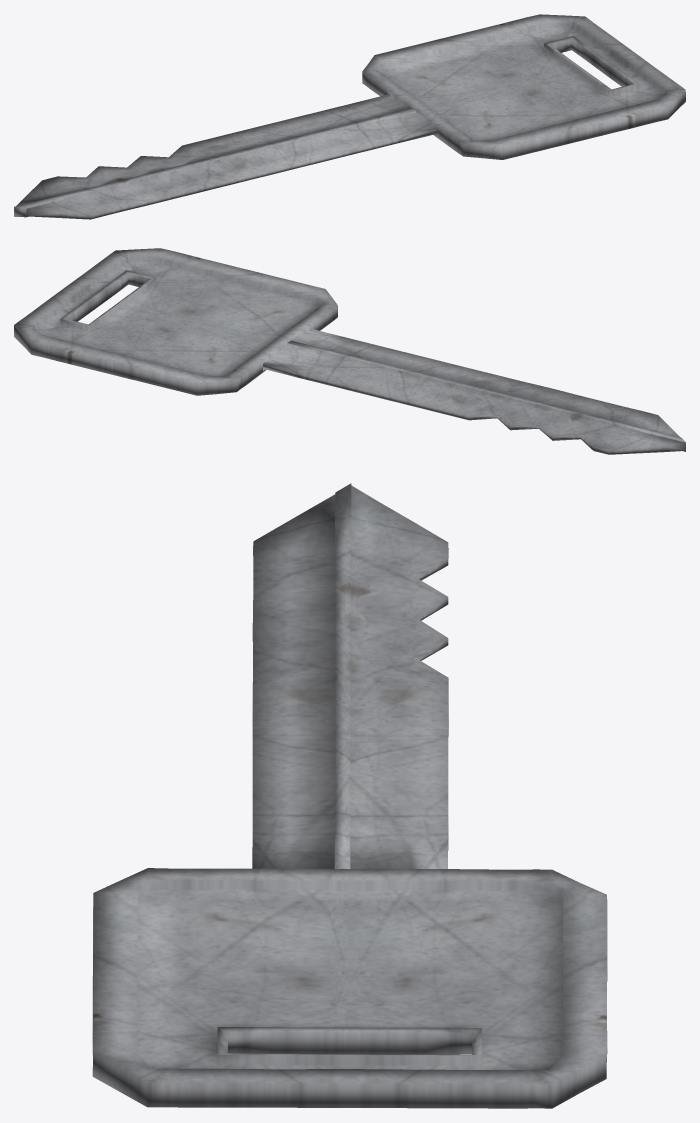
File: door_key.glb
3 views of the same model, one above another, from view 1: azimuth 30°, elevation 25°; view 2: azimuth 150°, elevation 25°; view 3: azimuth 270°, elevation 25° (orthographic). The views are drawn at different scales.
Visible parts, largest first — view 1: Key 1; view 2: Key 1; view 3: Key 1.
Part boxes in pixels (x1,y1,x2,y2): Key 1: [14, 14, 685, 219]; Key 1: [14, 248, 685, 454]; Key 1: [92, 483, 607, 1108].
Bounding box in the file's own units: 0.1003 × 0.00209 × 0.036.
Materials: 1 (1 with a texture image).
